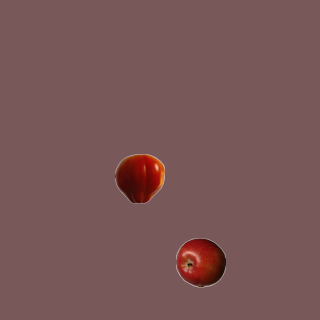Apple Braeburn: (175, 237, 225, 287)
Tomato 1: (114, 153, 164, 203)
